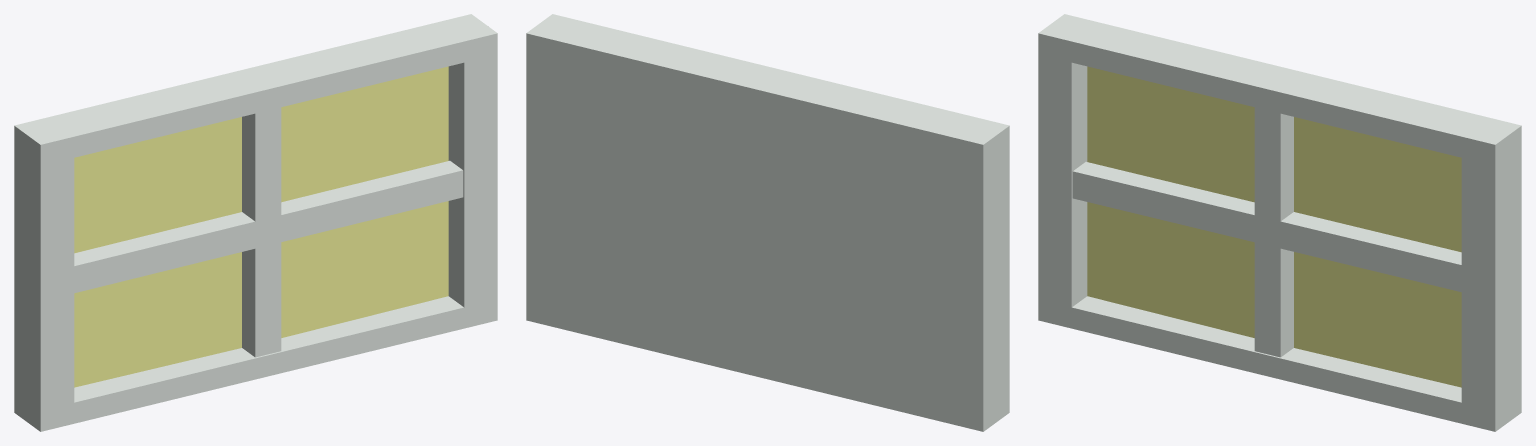
The model's file is house_window.fbx.
3 views of the same model, side by side, from view 1: azimuth 30°, elevation 25°; view 2: azimuth 150°, elevation 25°; view 3: azimuth 330°, elevation 25° (orthographic).
Visible parts, largest first — view 1: Cube.002; view 2: Cube.002; view 3: Cube.002.
Part boxes in pixels (x1=…): Cube.002: x1=14, y1=14, x2=497, y2=431; Cube.002: x1=526, y1=14, x2=1009, y2=431; Cube.002: x1=1038, y1=14, x2=1521, y2=431.
Bounding box in the file's own units: 2000 × 1200 × 200.
